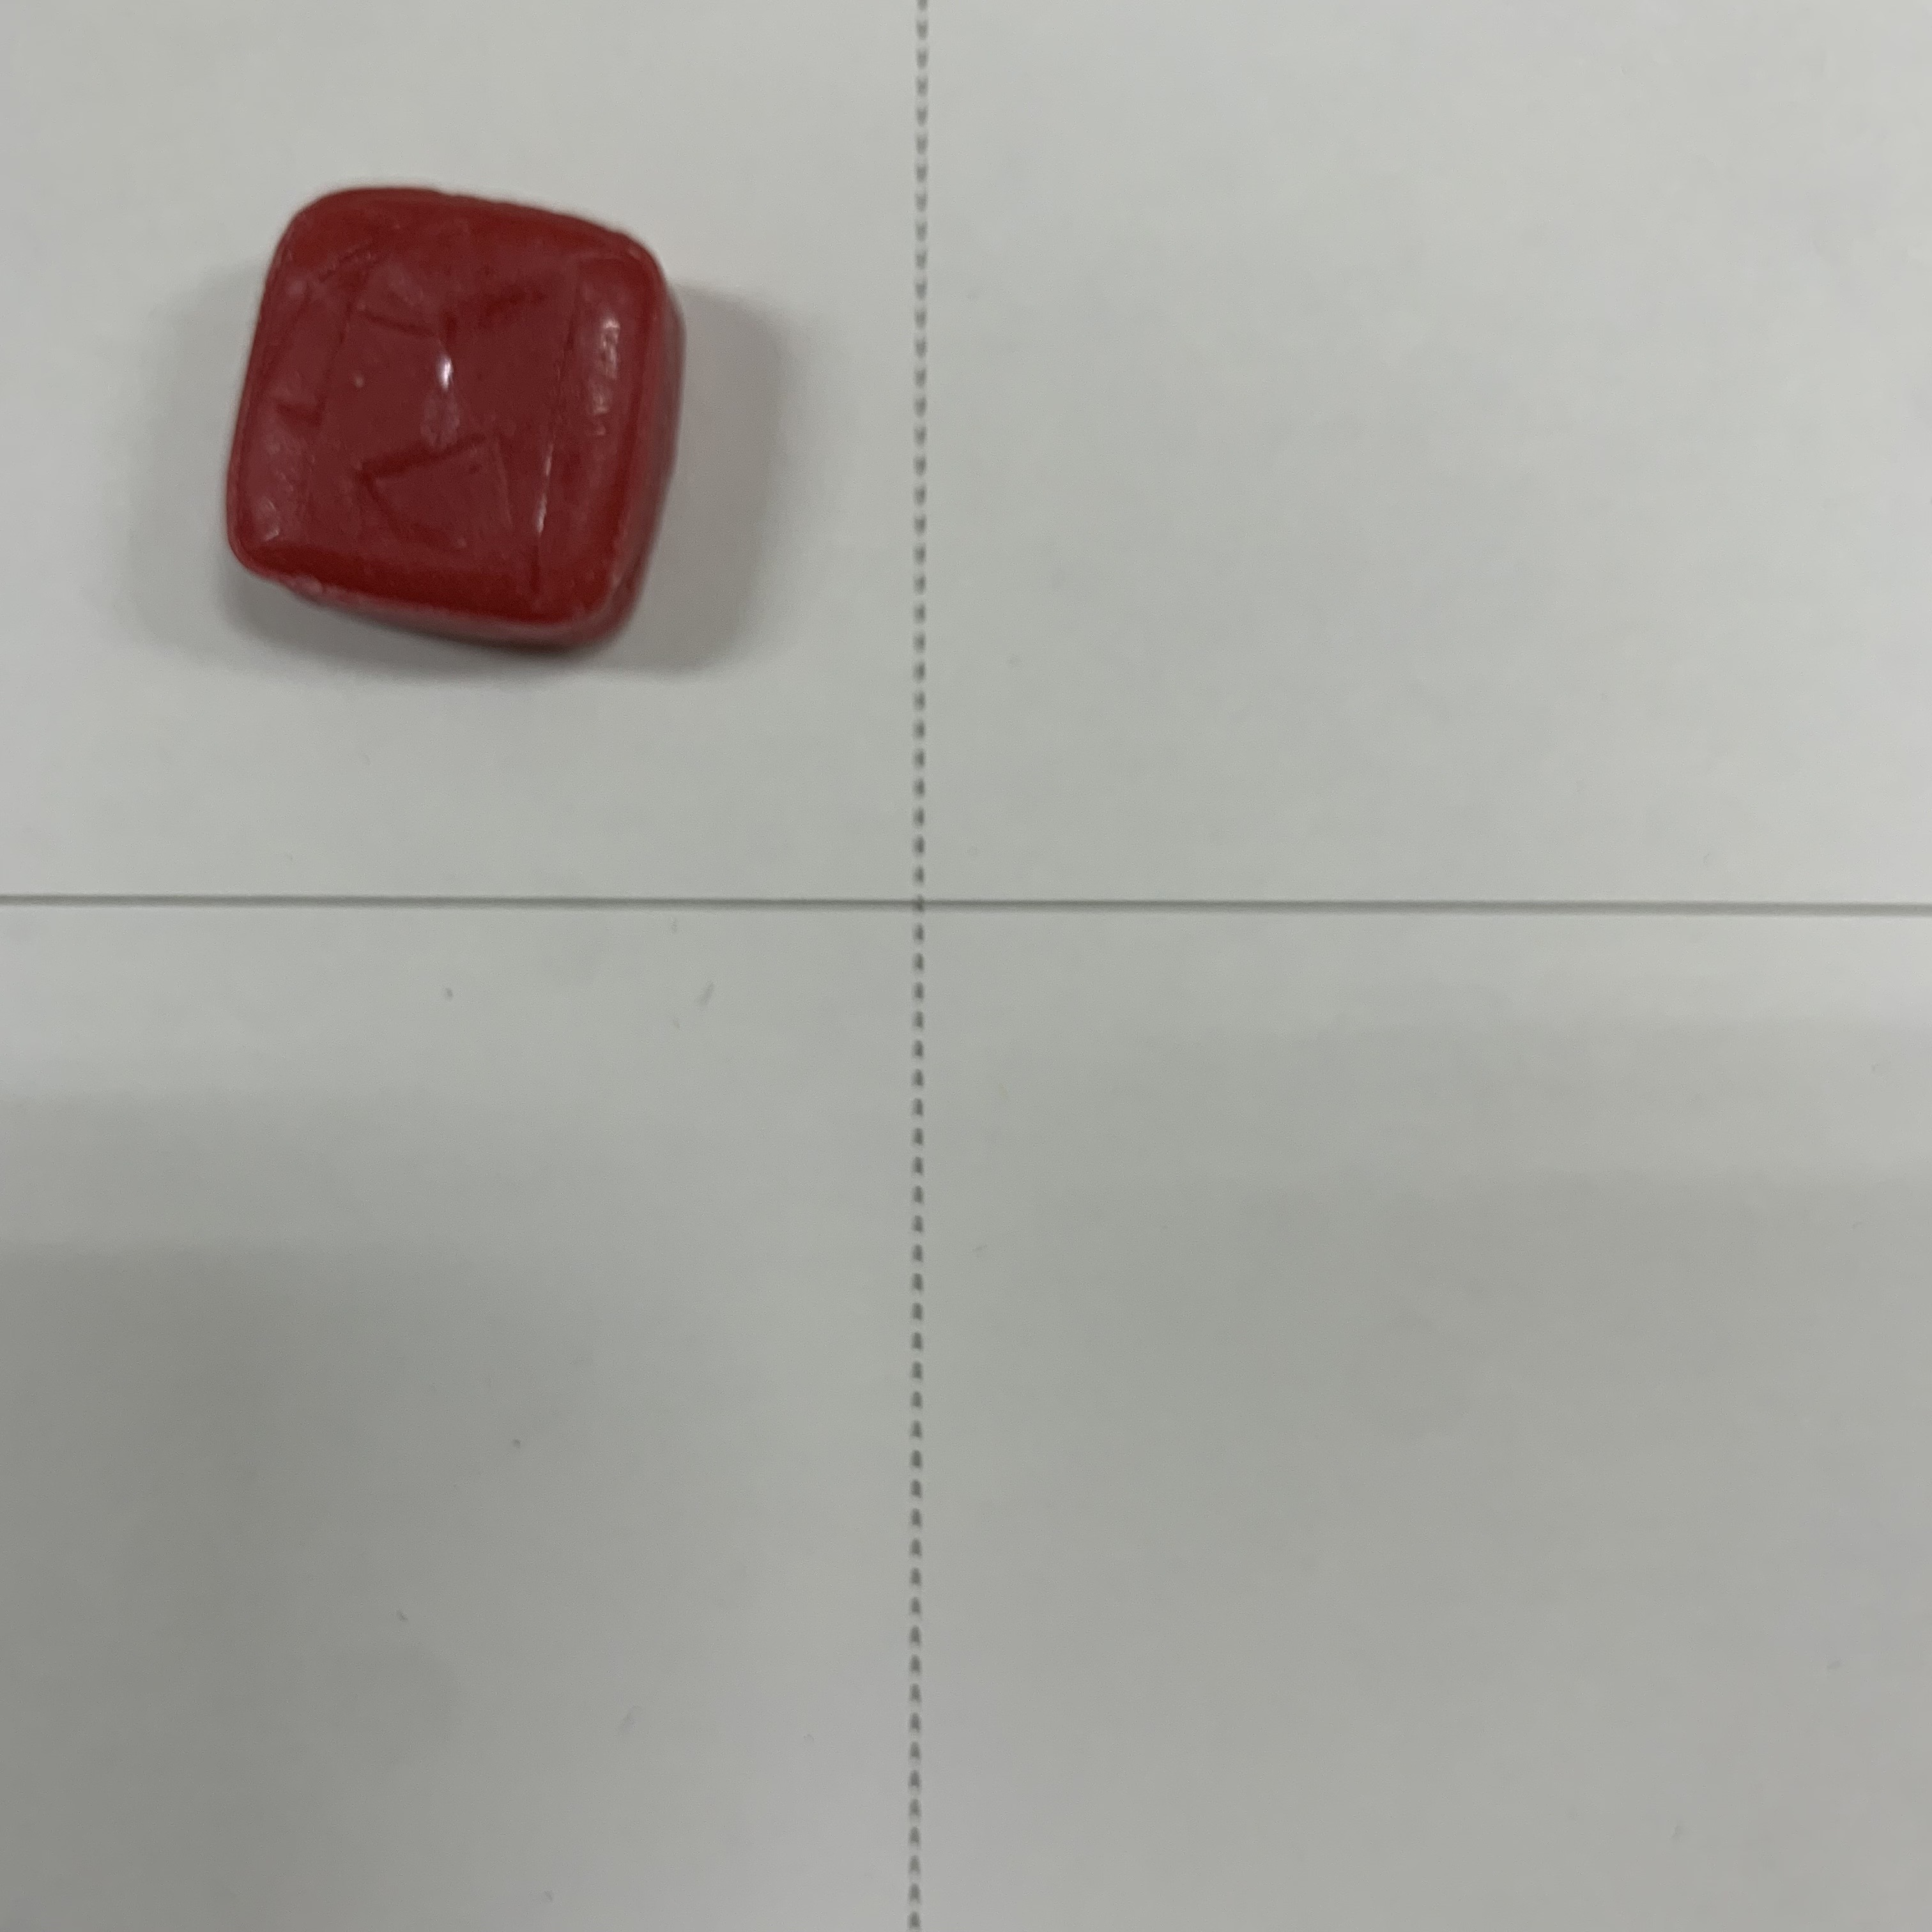sqr_drug: (205, 170, 701, 681)
